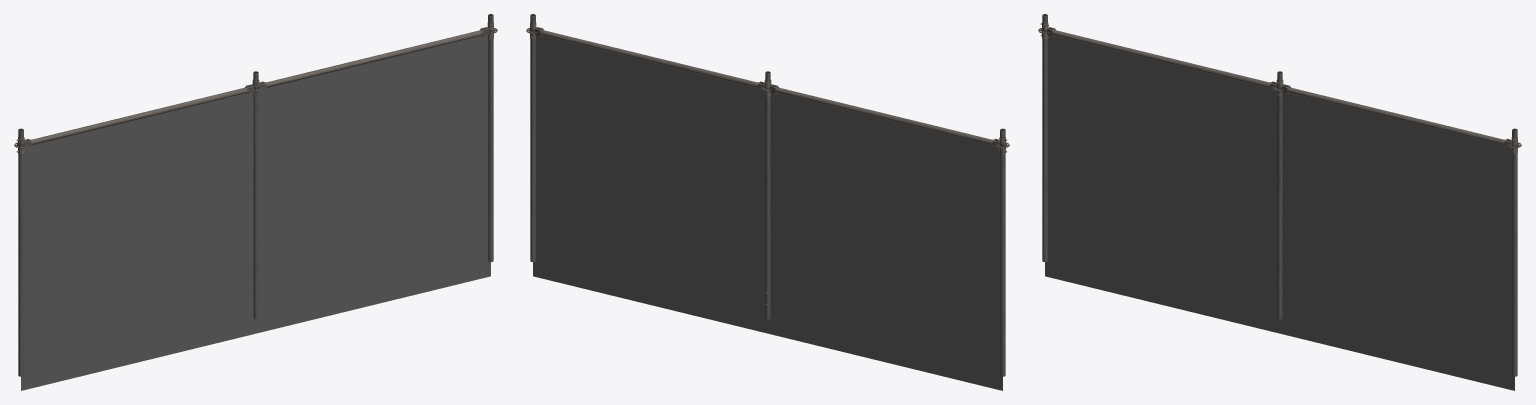
The model's file is scaffold_mid_cap_192.fbx.
3 renders of one model, left to right at view 1: azimuth 30°, elevation 25°; view 2: azimuth 150°, elevation 25°; view 3: azimuth 330°, elevation 25°, orthographic.
Visible parts, largest first — view 1: scaffold_mid_cap_192; view 2: scaffold_mid_cap_192; view 3: scaffold_mid_cap_192.
Boxes of the visible parts, x1,y1,x2,y2 form: scaffold_mid_cap_192: (14,14,497,390); scaffold_mid_cap_192: (526,14,1009,390); scaffold_mid_cap_192: (1038,14,1521,390).
Bounding box in the file's own units: 394 × 204 × 9.57.
